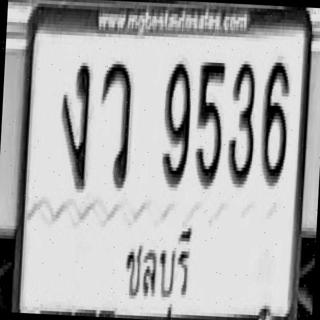A07: (57, 58, 92, 190)
A37: (97, 60, 134, 188)
N03: (226, 58, 258, 186)
N05: (194, 59, 226, 190)
N06: (259, 59, 291, 187)
N09: (160, 60, 192, 188)
P13: (119, 215, 194, 320)
